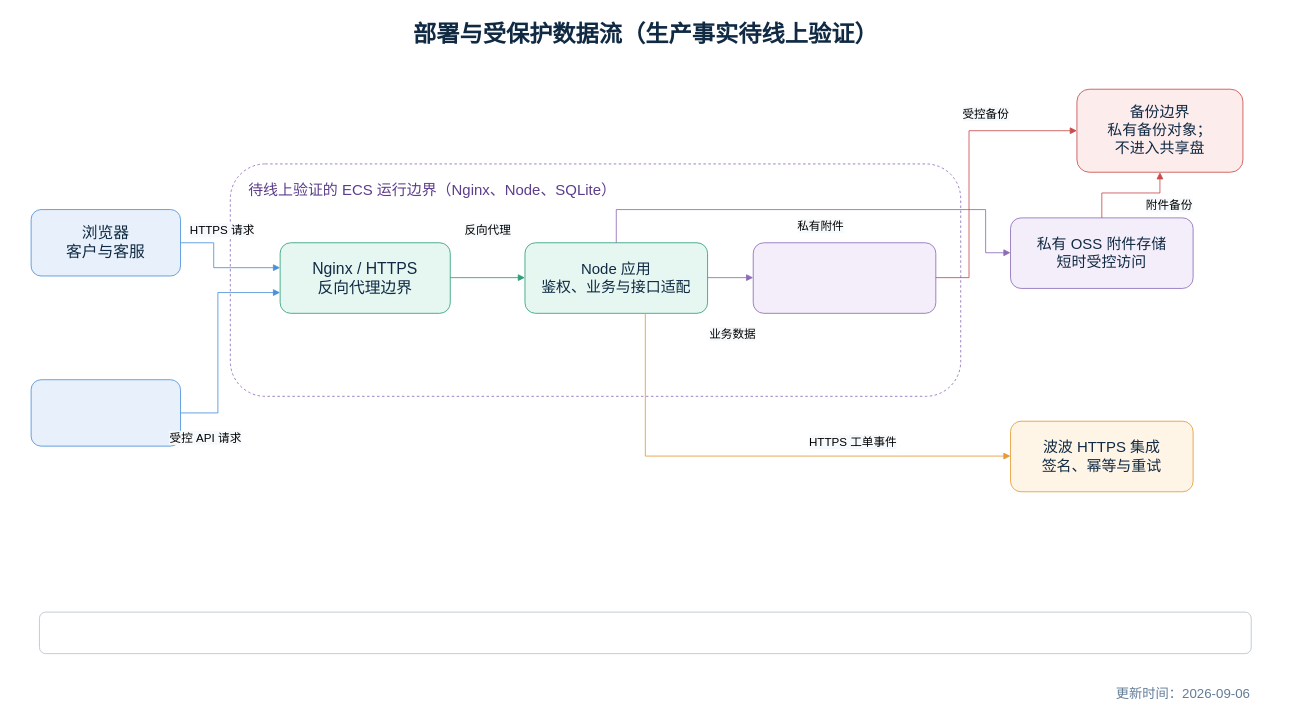
This 1290x721 diagram has some shape labels left out. Here are the shapes that lost their labels. From the top down, the centre of each, then its label:
At (844,277): "SQLite 业务数据库 仅应用服务访问".
At (105,412): "微信 小程序客户端".
At (645,632): "图例：蓝色＝客户端流量 绿色＝运行入口与应用 紫色＝受保护数据 橙色＝外部 HTTPS 集成 红色＝备份边界".
